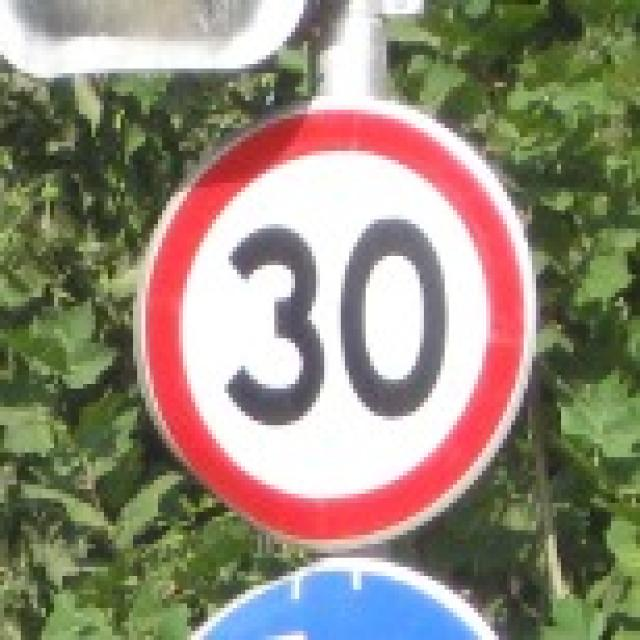Speed Limit -30-: (218, 214, 448, 432)
